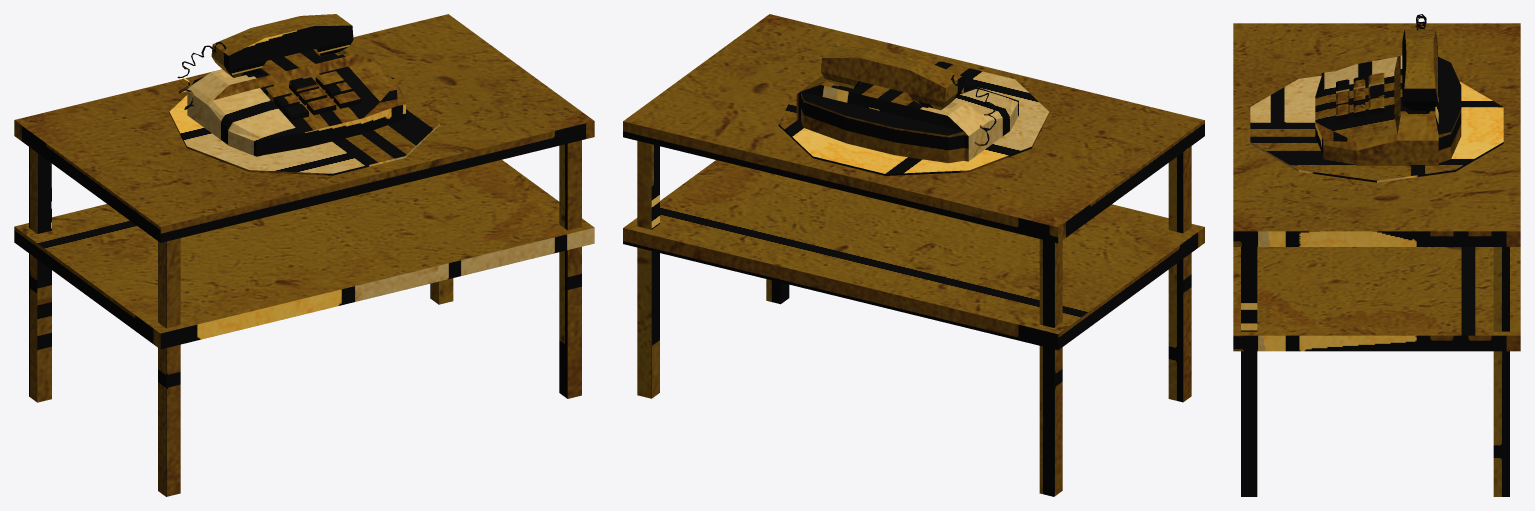
The model's file is Telefon.fbx.
The picture shows the model from 3 angles, left to right: view 1: azimuth 30°, elevation 25°; view 2: azimuth 150°, elevation 25°; view 3: azimuth 270°, elevation 25°; orthographic projection. The views are drawn at different scales.
Visible parts, largest first — view 1: Tisch; view 2: Tisch; view 3: Tisch.
Part boxes in pixels (<box>): Tisch: <box>14,14,594,496</box>; Tisch: <box>623,14,1204,496</box>; Tisch: <box>1233,14,1520,496</box>.
Size of the model in its own units: 240 by 186 by 140.
